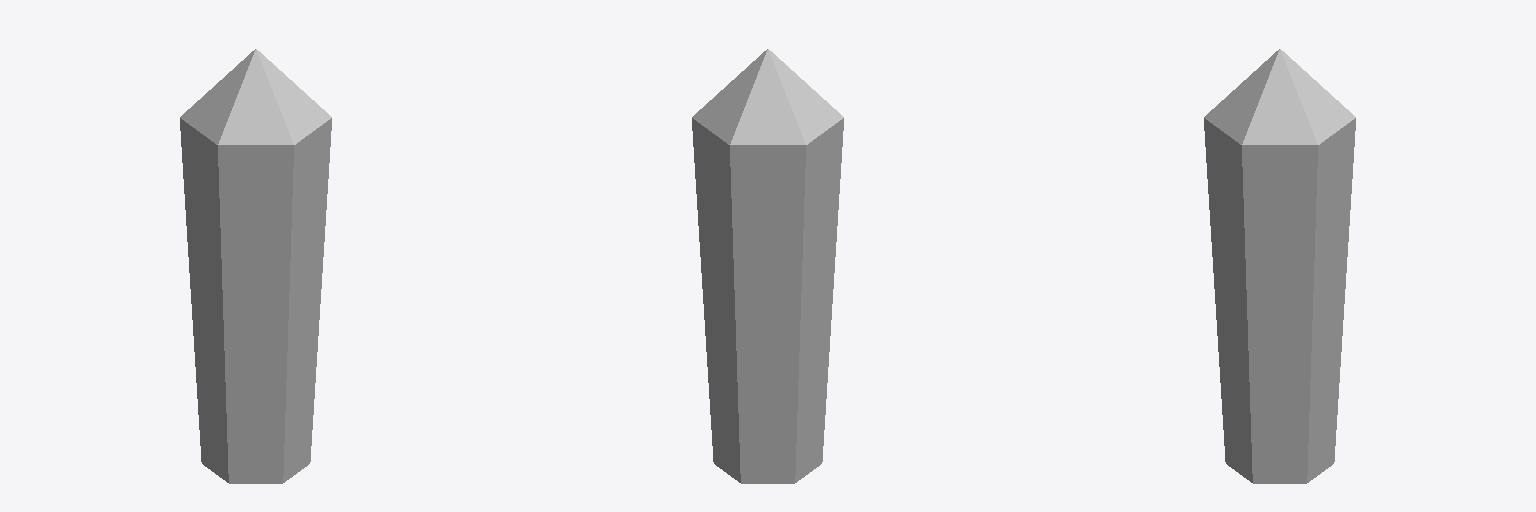
File: Crystal.obj
The picture shows the model from 3 angles: view 1: azimuth 30°, elevation 25°; view 2: azimuth 150°, elevation 25°; view 3: azimuth 270°, elevation 25°; orthographic projection.
Parts seen in each view (by area): view 1: Cylinder_Cylinder.001; view 2: Cylinder_Cylinder.001; view 3: Cylinder_Cylinder.001.
Part boxes in pixels (x1,y1,x2,y2): Cylinder_Cylinder.001: (180, 49, 331, 483); Cylinder_Cylinder.001: (692, 49, 843, 483); Cylinder_Cylinder.001: (1204, 49, 1355, 483).
Bounding box in the file's own units: 1.73 × 6 × 2.